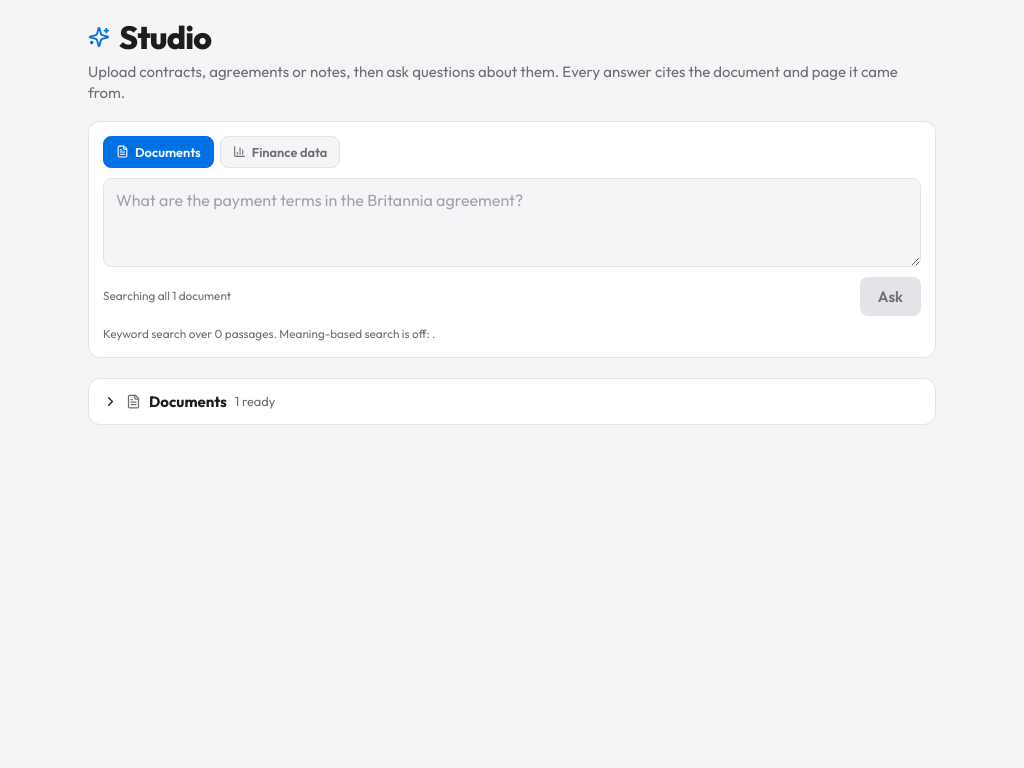
Test: Studio citations › reveals the cited passage when a marker is clicked
Type "What are the payment terms?" into the text box named "Your question" at (512, 222), box [103,178,921,267]
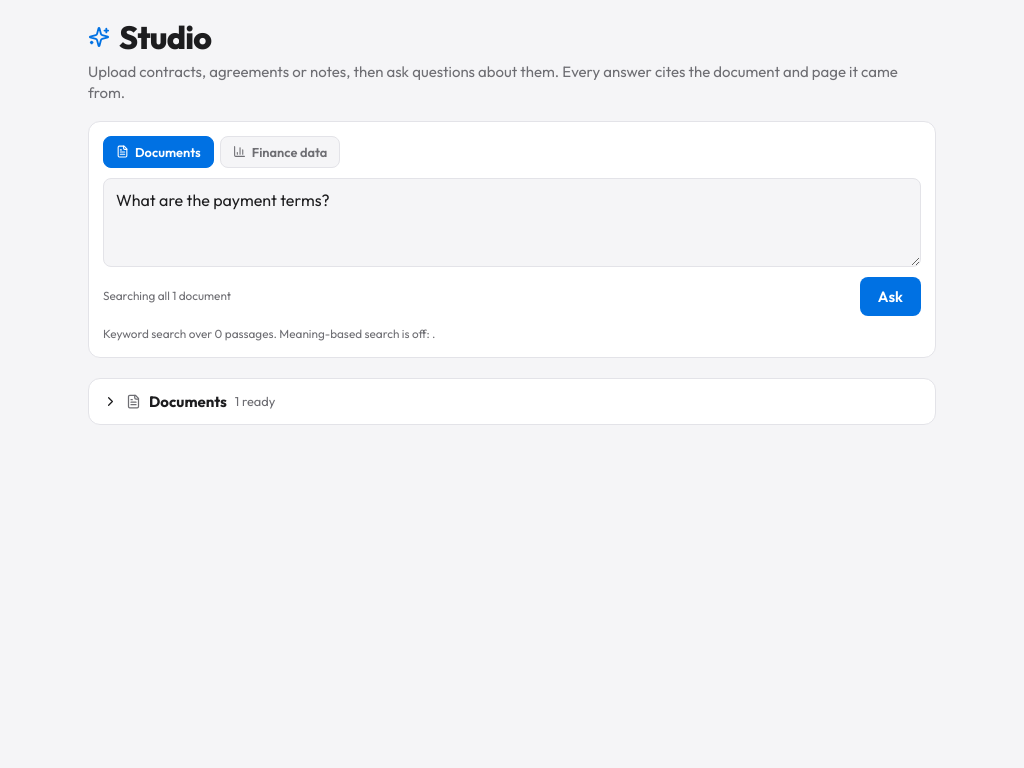
Click the button "Ask" at (890, 296), box [860,277,921,316]
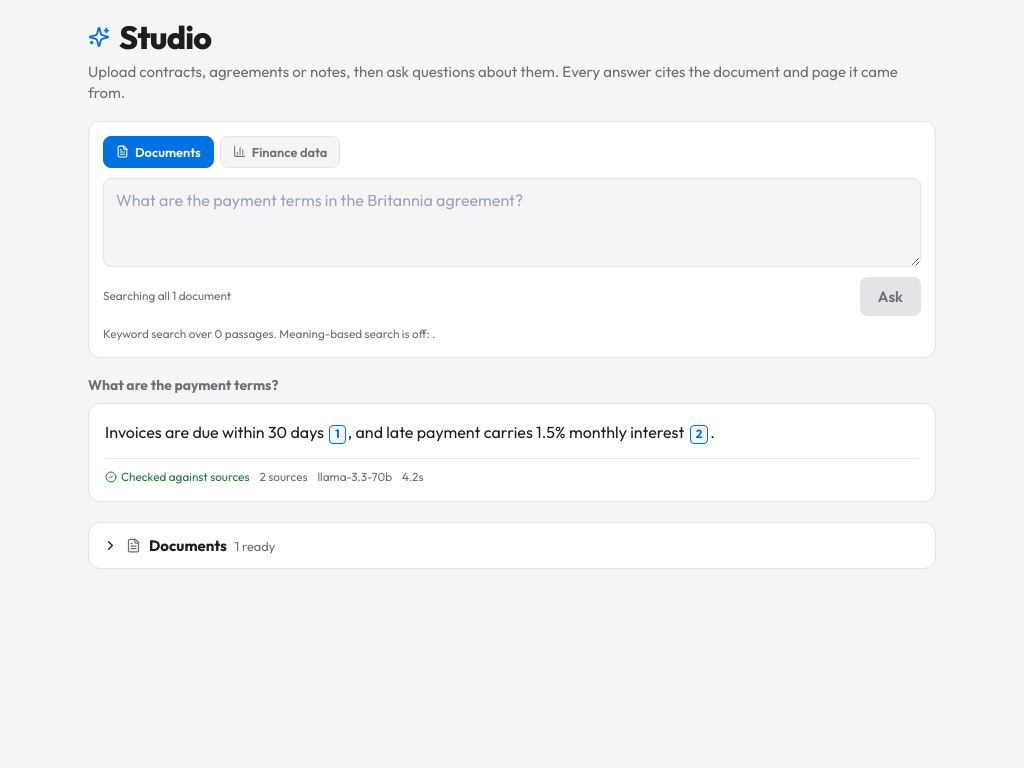
Expected: the text "thirty (30) days" is not shown
Click the button "1" at (338, 434), box [329,425,346,444]
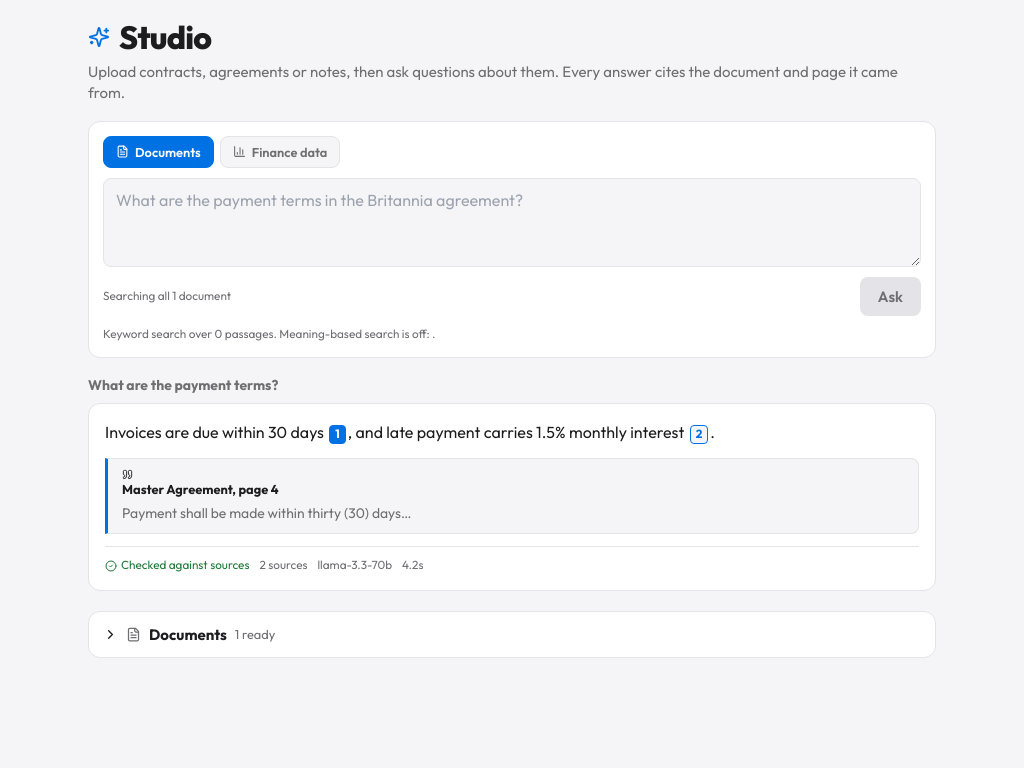
Now the text "thirty (30) days" is shown, box [122,504,401,522]
Now the text "Master Agreement, page 4" is shown, box [122,468,278,496]
